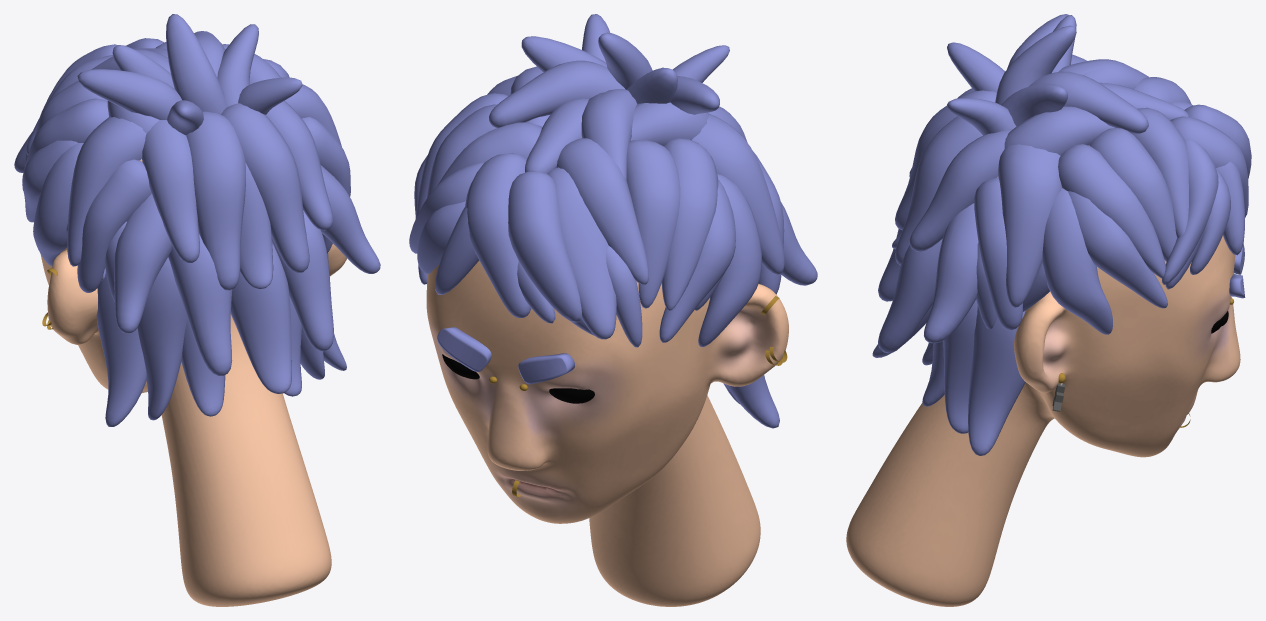
The model's file is waynstead-head.glb.
3 views of the same model, side by side, from view 1: azimuth 30°, elevation 25°; view 2: azimuth 150°, elevation 25°; view 3: azimuth 270°, elevation 25° (orthographic). The views are drawn at different scales.
Parts seen in each view (by area): view 1: Cube.002, Cube.001; view 2: Cube.002, Cube.001, Plane, Sphere; view 3: Cube.002, Cube.001, Plane.
Boxes of the visible parts, <box> form: Cube.002: <box>14,14,380,426</box>; Cube.001: <box>40,159,346,606</box>; Cube.002: <box>409,14,817,428</box>; Cube.001: <box>426,260,788,606</box>; Plane: <box>437,327,574,384</box>; Sphere: <box>442,354,594,403</box>; Cube.002: <box>872,14,1251,455</box>; Cube.001: <box>846,145,1240,606</box>; Plane: <box>1229,243,1245,298</box>.
Bounding box in the file's own units: 1.69 × 2.91 × 1.9.
